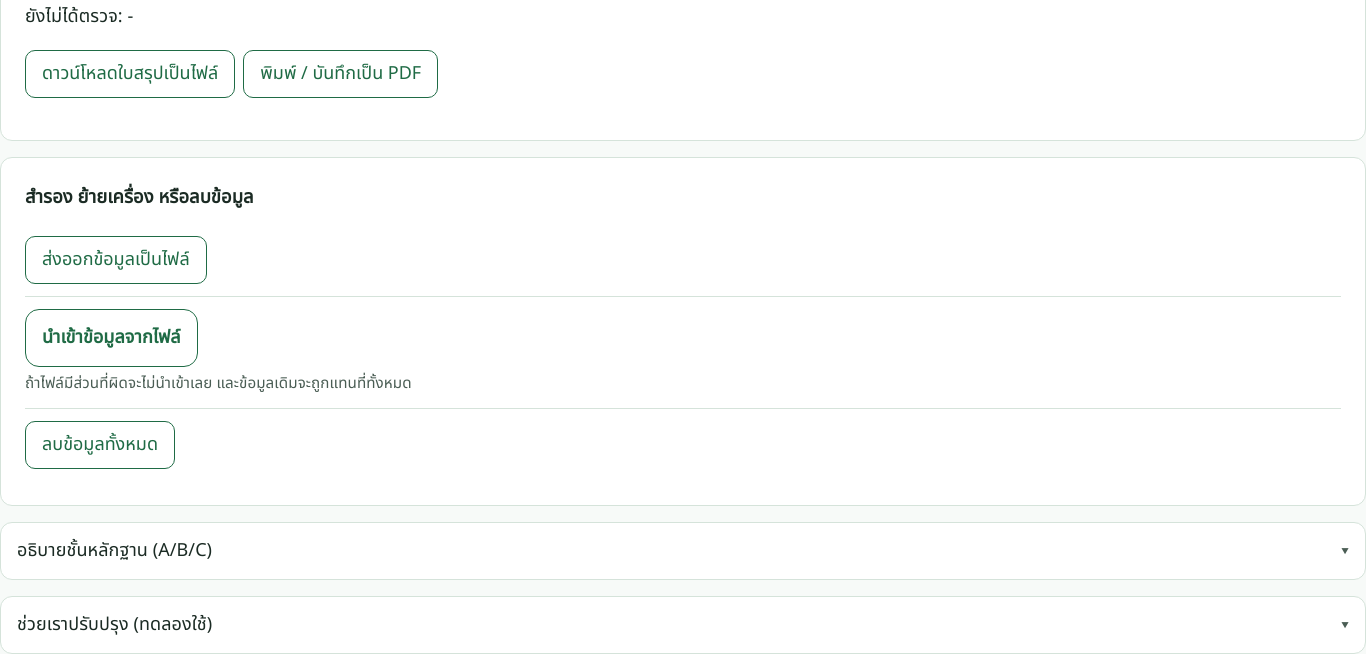
it: ข้อเสนอแนะ › ส่งเฉพาะฟิลด์ตาม schema เดิม ไม่แนบสมุนไพร/ยา/โปรไฟล์ของผู้ใช้
(page scrolled)
Click the heading "ช่วยเราปรับปรุง (ทดลองใช้)": click(115, 625) top-left (17, 611), bottom-right (212, 638)
(page scrolled)
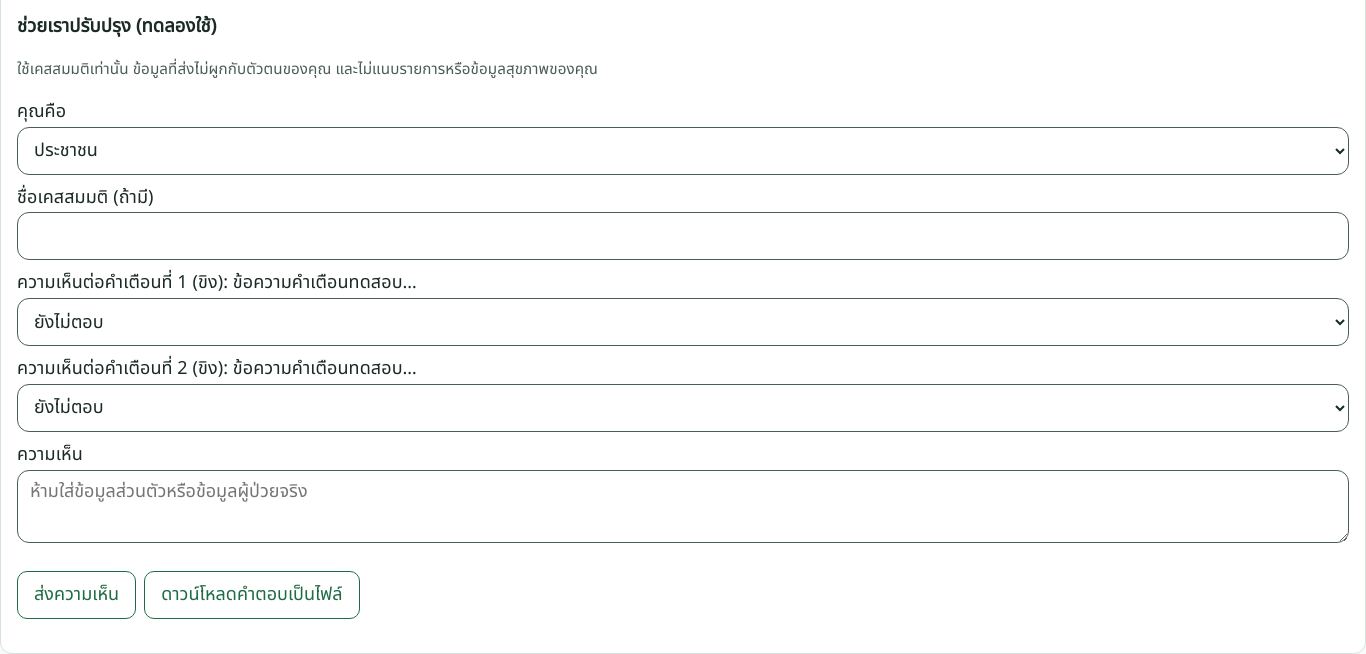
Select "เห็นด้วย" in the dropdown labelled "ความเห็นต่อคำเตือนที่ 1 (ขิง): ข้อความคำเตือนทดสอบ…": (683, 322) top-left (17, 298), bottom-right (1349, 346)
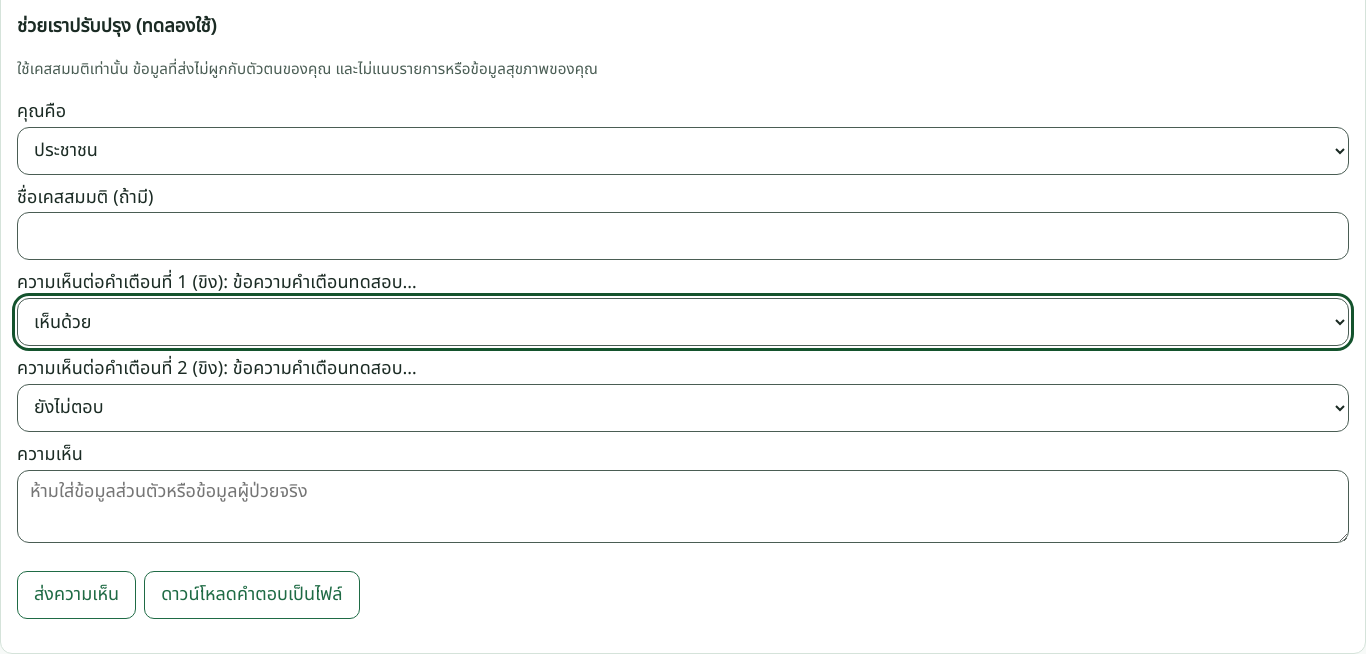
Select "ไม่แน่ใจ" in the dropdown labelled "ความเห็นต่อคำเตือนที่ 2 (ขิง): ข้อความคำเตือนทดสอบ…": (683, 408) top-left (17, 384), bottom-right (1349, 432)
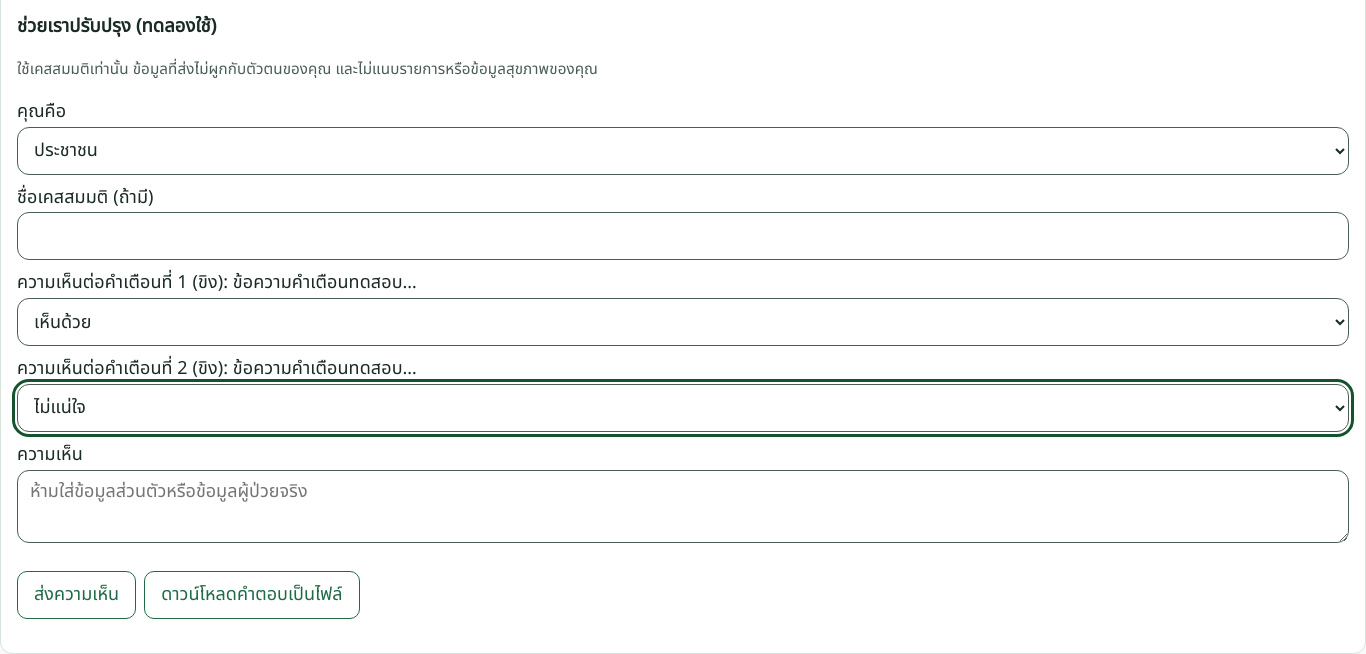
Select "เภสัชกร" in the dropdown labelled "คุณคือ": (683, 151) top-left (17, 127), bottom-right (1349, 175)
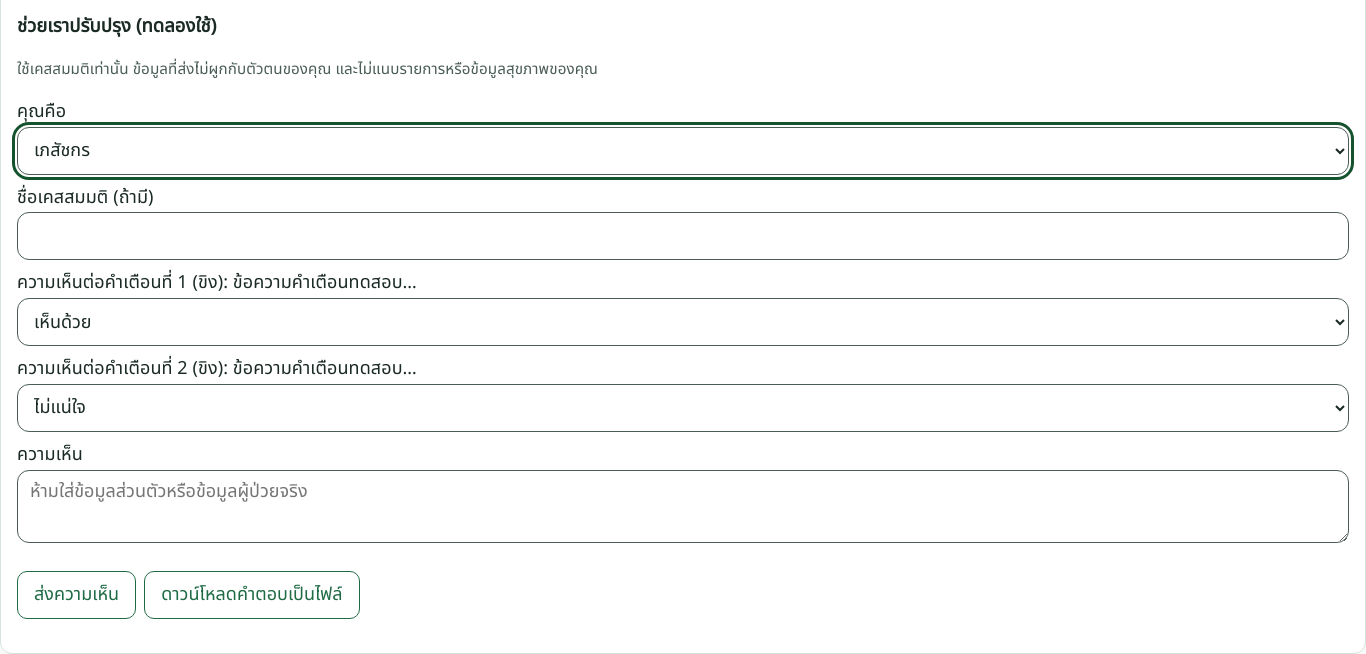
In the text box labelled "ความเห็น": (683, 506) top-left (17, 470), bottom-right (1349, 543), type "ทดสอบ"
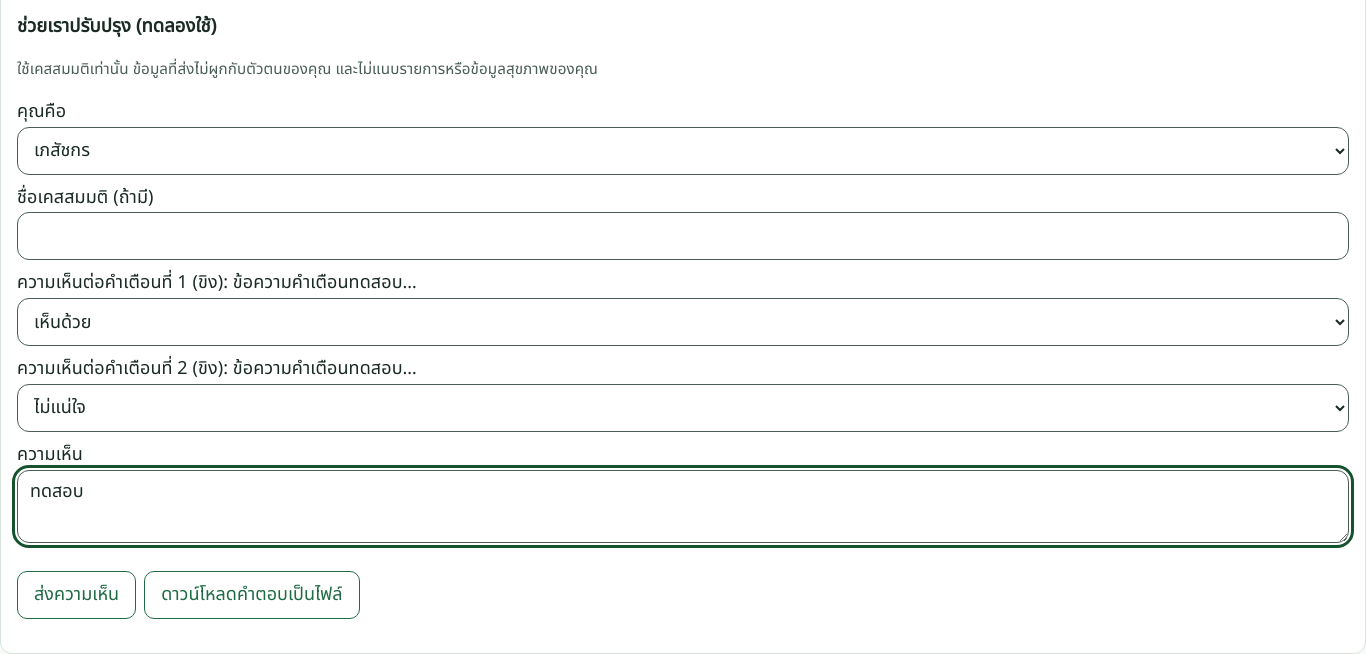
Click the button "ส่งความเห็น": click(77, 595) top-left (17, 571), bottom-right (136, 619)
(page scrolled)
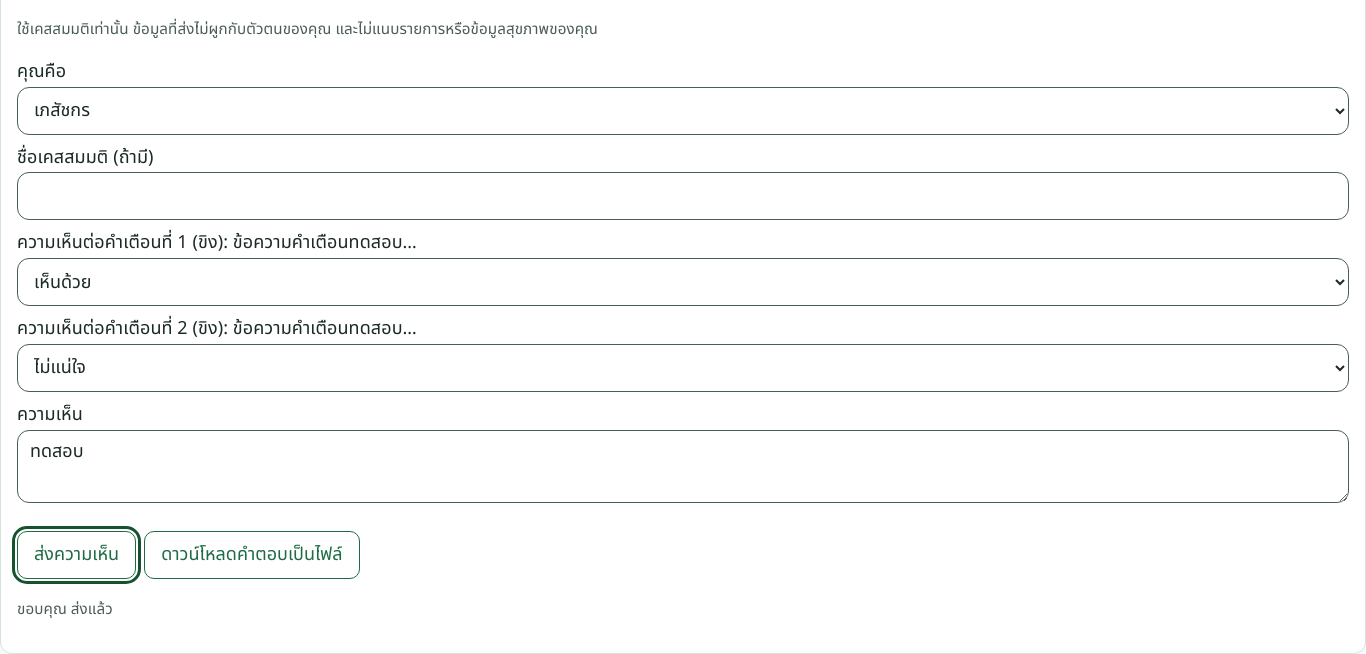
Result: the text "ขอบคุณ ส่งแล้ว" is shown at top-left (17, 598), bottom-right (113, 621)
